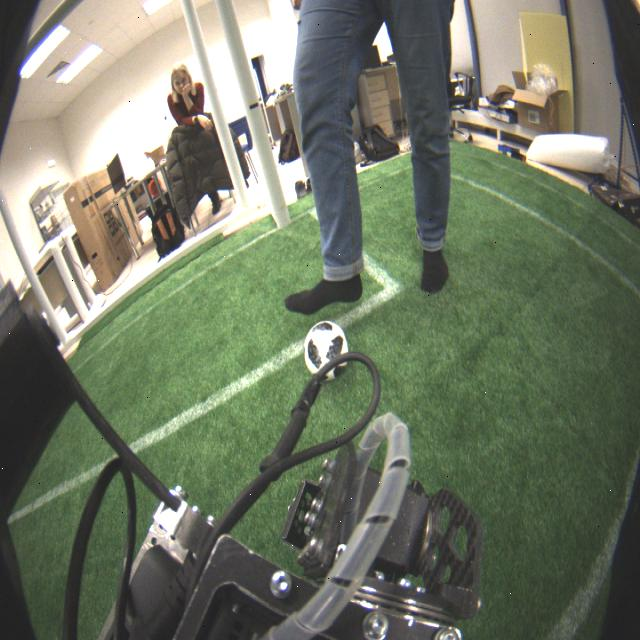ball: (304, 321, 348, 385)
goalpost: (217, 0, 291, 228)
